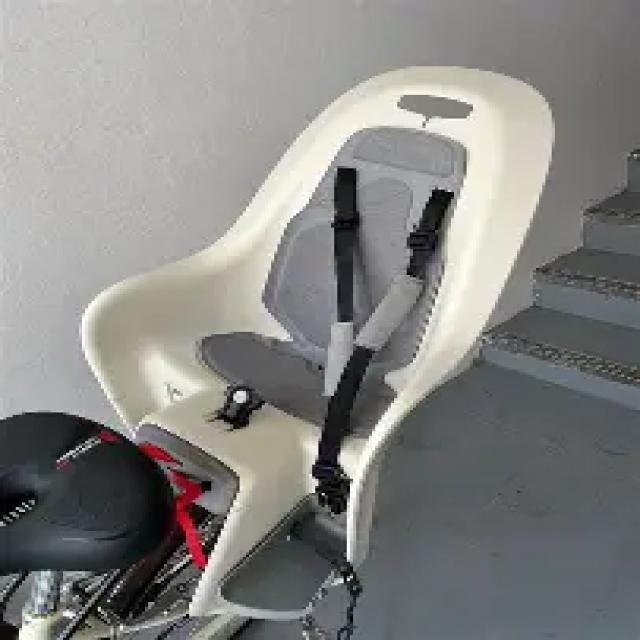childseat: (86, 61, 570, 619)
